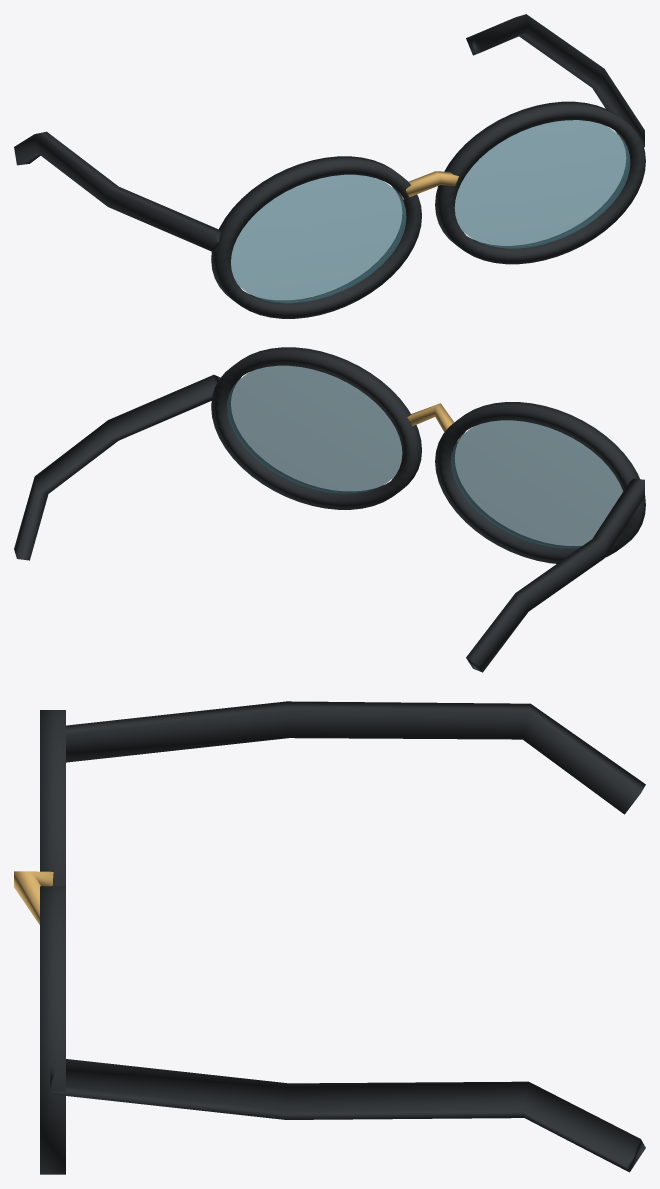
Rendered from 04-glasses.glb.
3 renders of one model, top to bottom at view 1: azimuth 30°, elevation 25°; view 2: azimuth 150°, elevation 25°; view 3: azimuth 270°, elevation 25°, orthographic. The views are drawn at different scales.
Visible parts, largest first — view 1: 04-glasses; view 2: 04-glasses; view 3: 04-glasses.
Part boxes in pixels (x1,y1,x2,y2): 04-glasses: (14,14,645,318); 04-glasses: (14,347,645,672); 04-glasses: (14,701,645,1174).
Size of the model in its own units: 0.213 by 0.061 by 0.1455.
